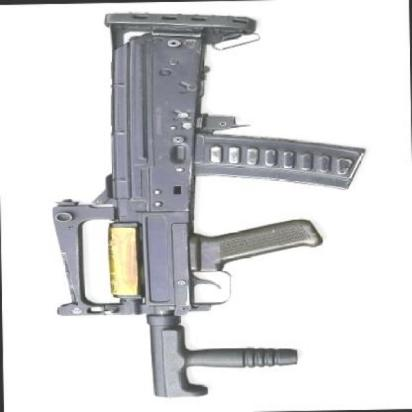Gun: (31, 12, 362, 396)
